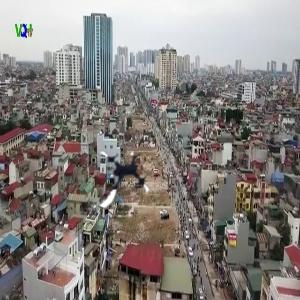drone: (84, 144, 155, 215)
